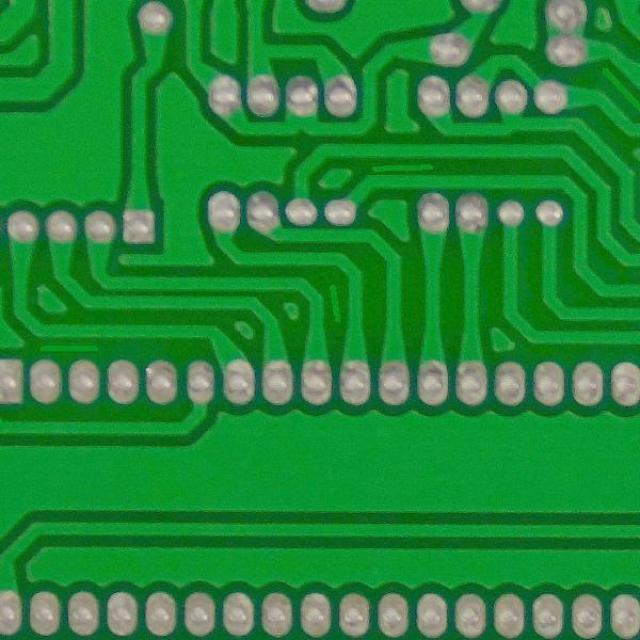Spurious_Cooper: (592, 59, 639, 116), (322, 278, 349, 326), (367, 160, 438, 175), (35, 341, 105, 356)
